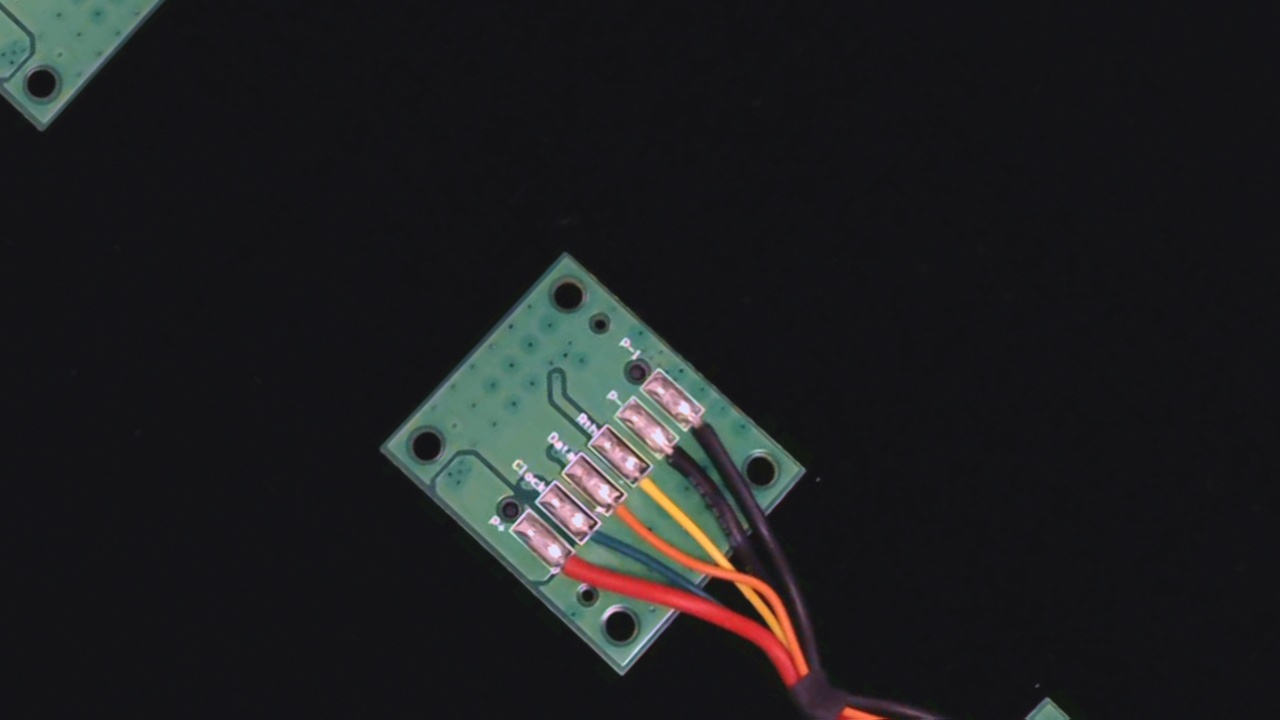Black: (646, 425, 723, 500)
Black1: (673, 397, 745, 467)
Green: (569, 508, 638, 575)
Orange: (594, 484, 670, 558)
Red: (541, 541, 616, 614)
Yellow: (619, 454, 696, 530)
